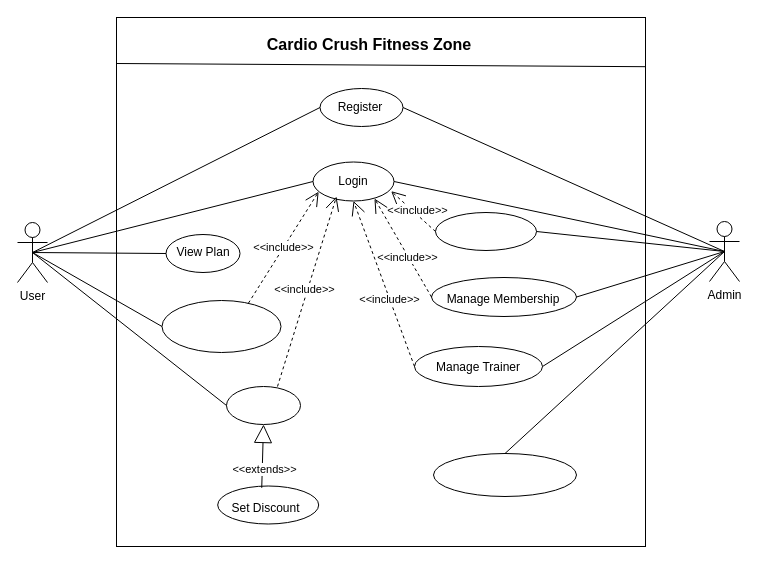
This 759x564 diagram has some shape labels left out. Each missing label, with the box of its shape:
Get Membership: (161, 300, 281, 352)
Manage Payment: (432, 452, 576, 496)
Manage Plan: (434, 212, 536, 250)
Payment: (226, 386, 300, 424)
